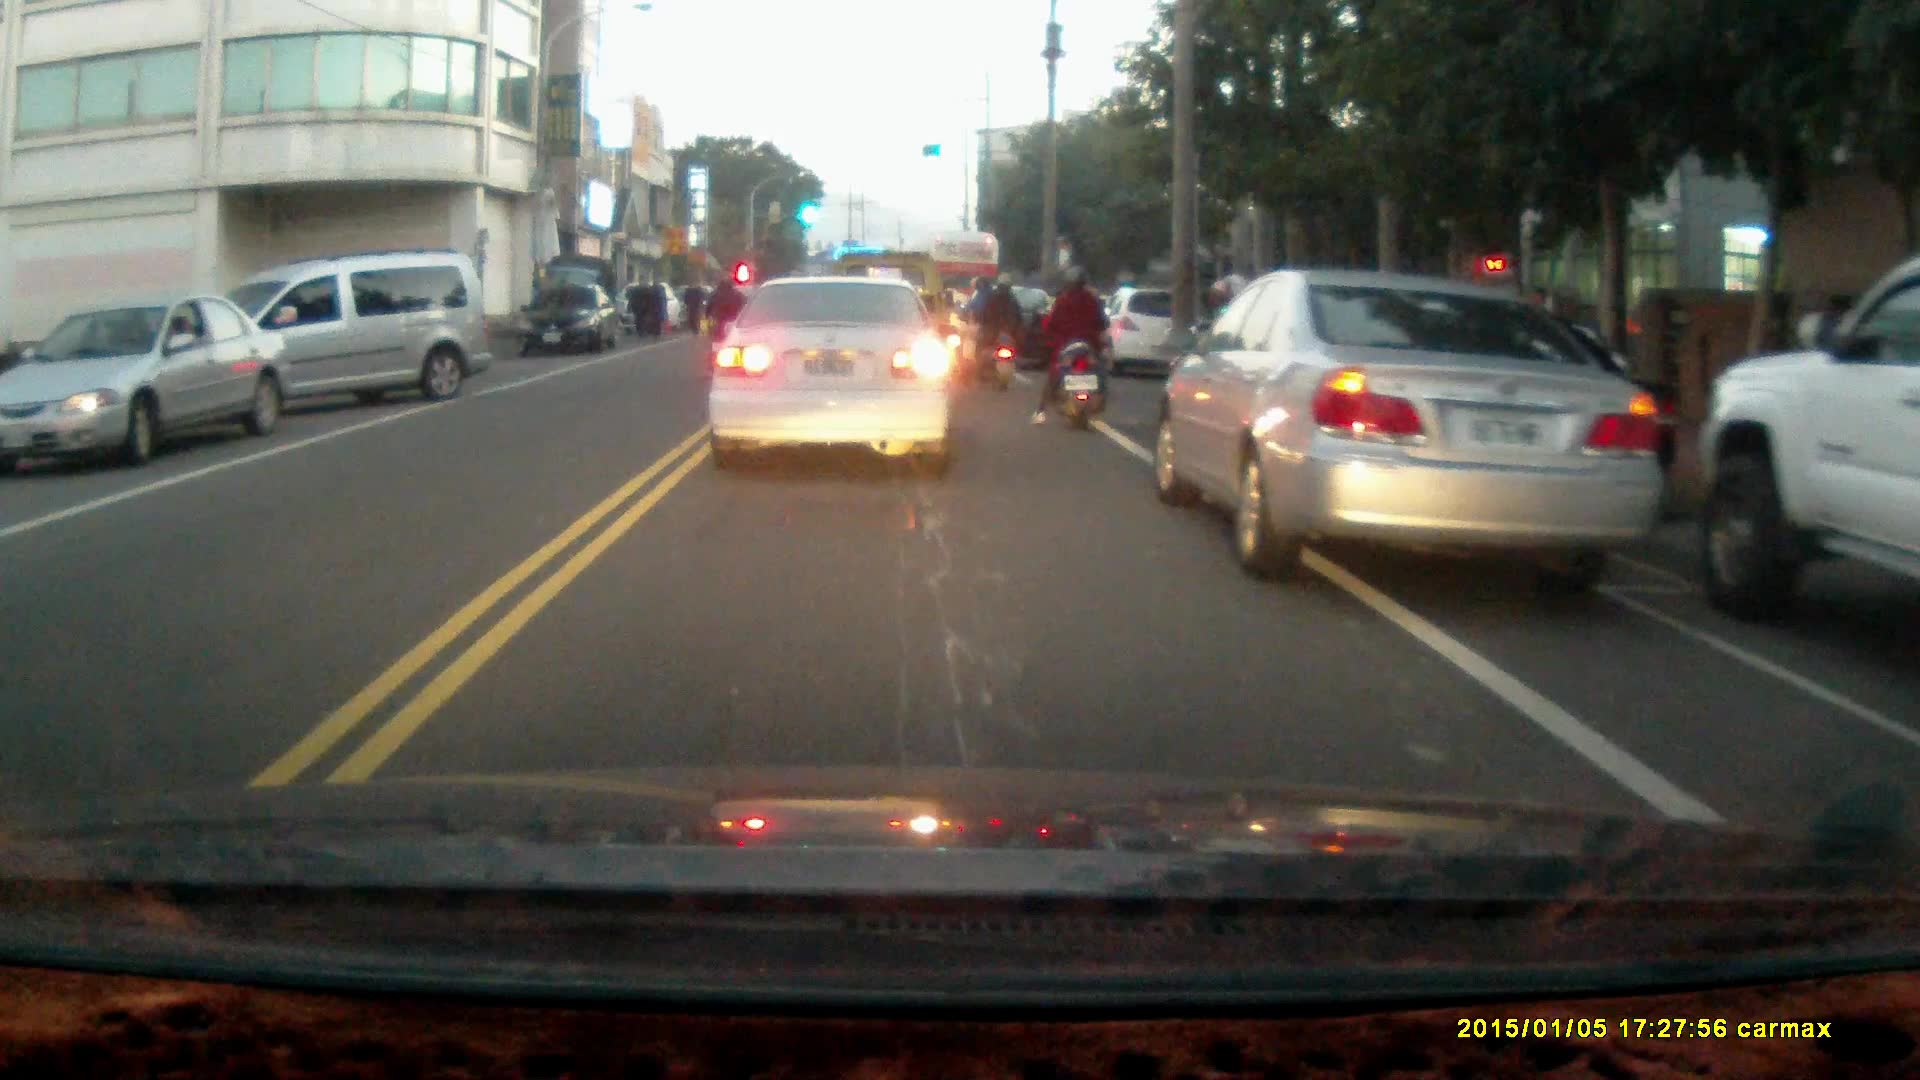pedestrian: (625, 271, 651, 340), (678, 274, 706, 337), (644, 269, 664, 343)
rider: (1026, 264, 1115, 434), (955, 268, 1024, 390), (703, 268, 747, 377)
vehicle: (1149, 263, 1657, 583), (1692, 260, 1920, 625), (172, 252, 496, 429), (1, 294, 289, 475), (704, 274, 957, 475), (519, 281, 619, 357)
